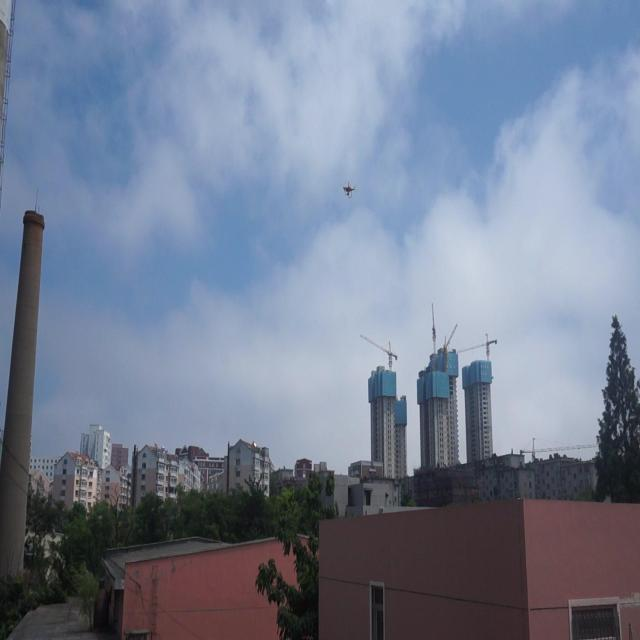drone: (340, 177, 358, 203)
